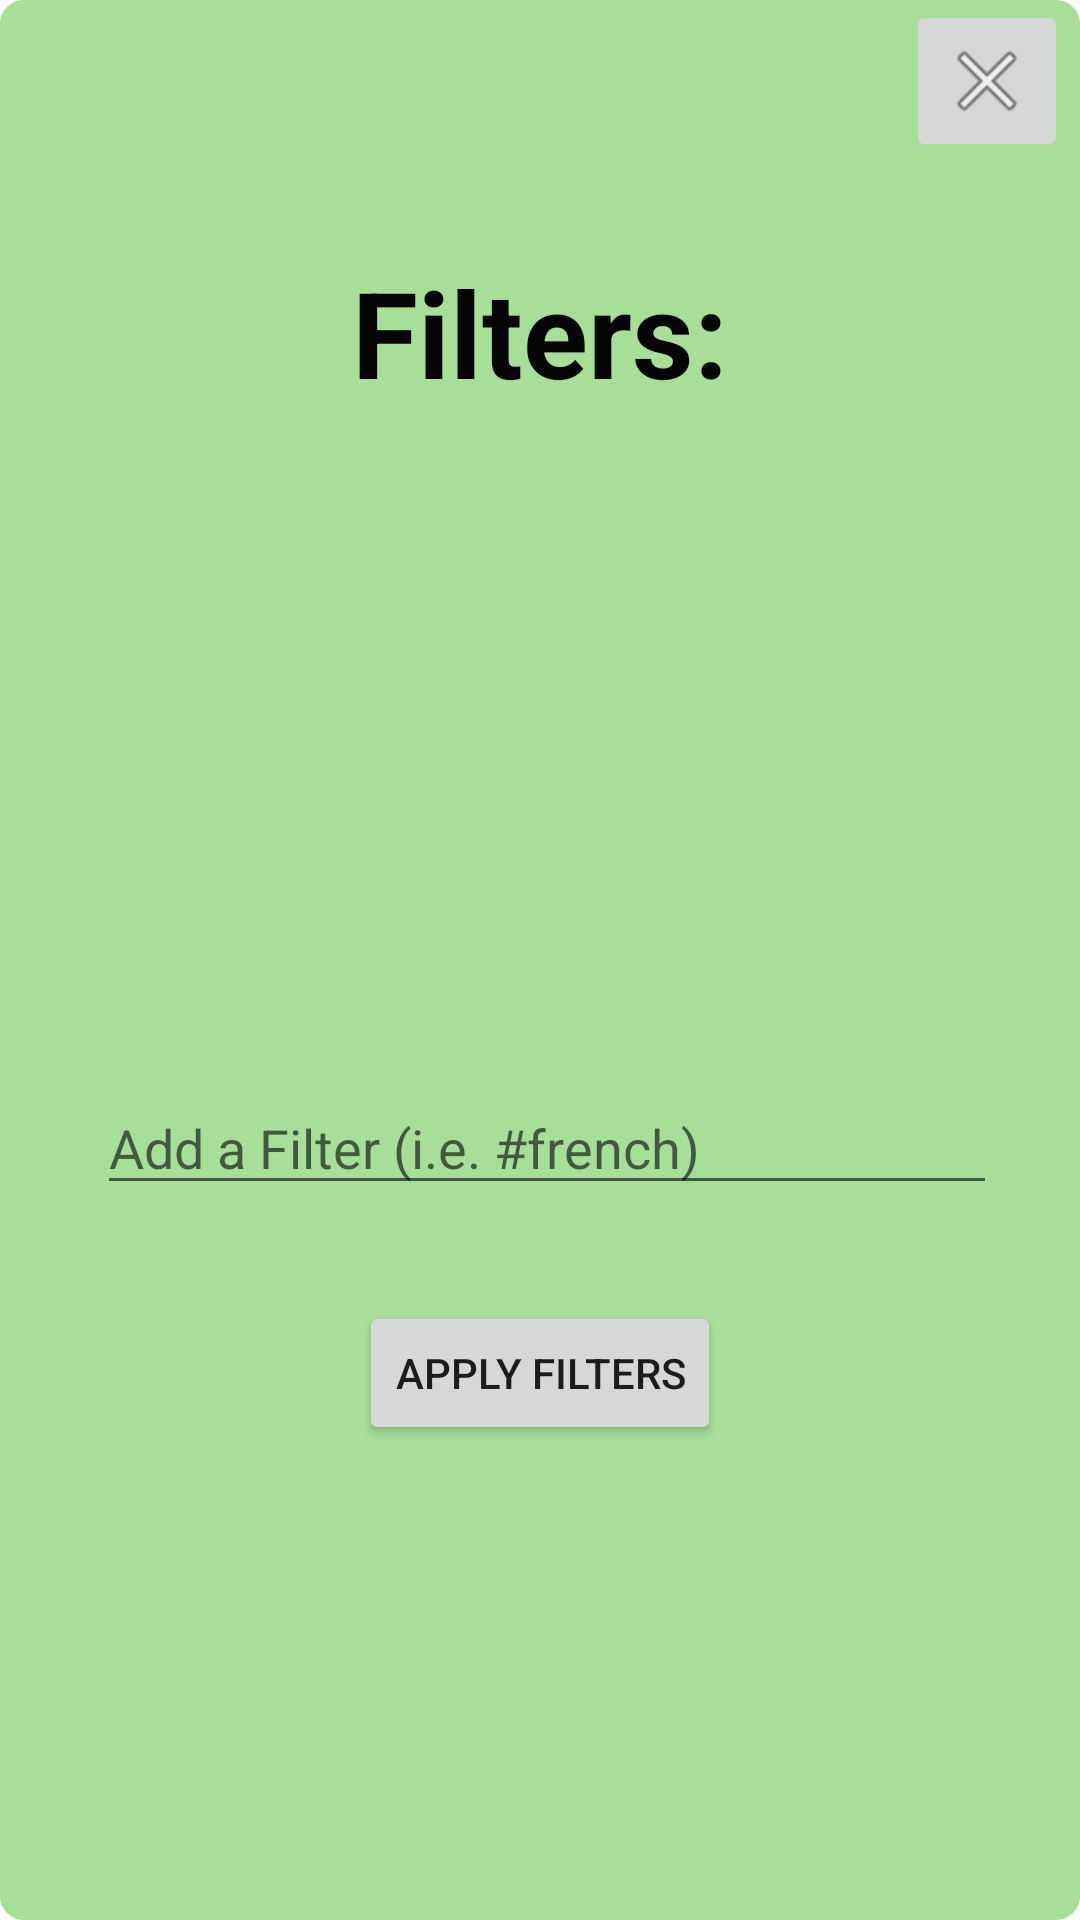

Where to tap for icons on this 1080*1920 app screen, as [x,y]:
close clear cancel: [987,81]
